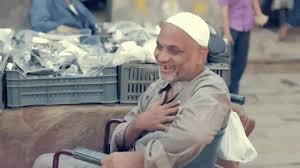middle_eastern_male: (154, 20, 208, 85)
